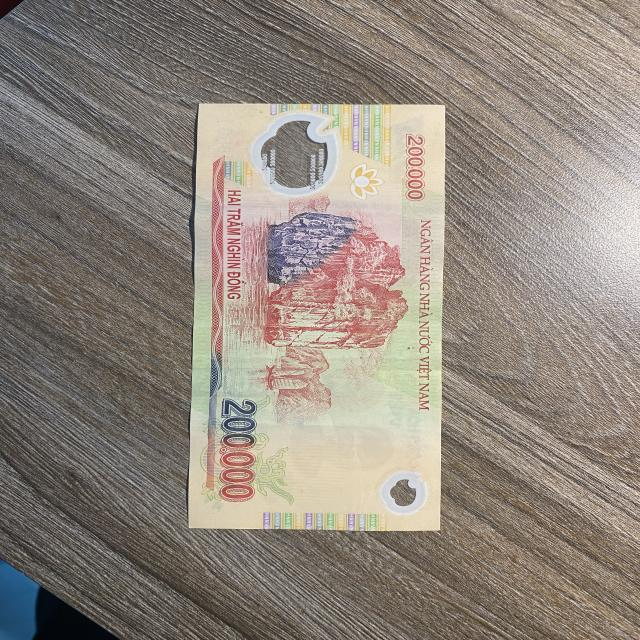200 000 VND: (186, 101, 447, 532)
